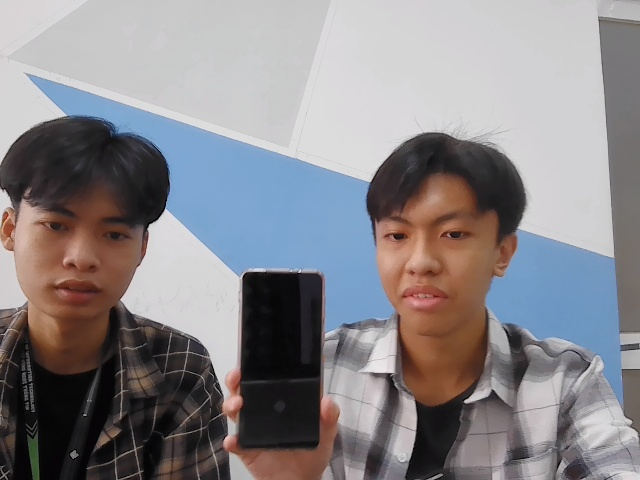human: (12, 120, 170, 329), (367, 134, 524, 339)
phone: (237, 263, 328, 455)
